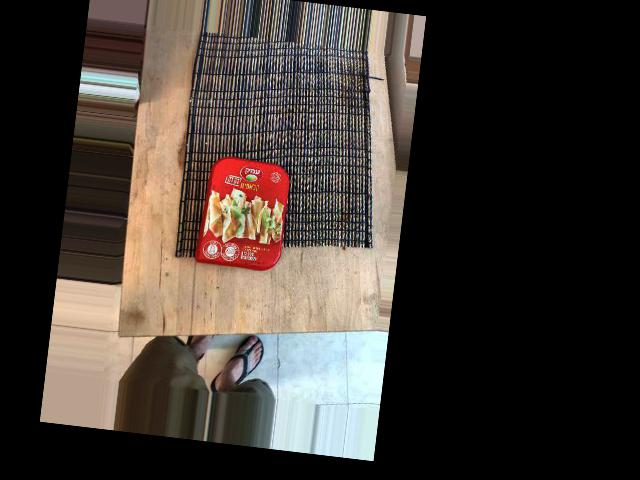cheese: (245, 144, 388, 247)
